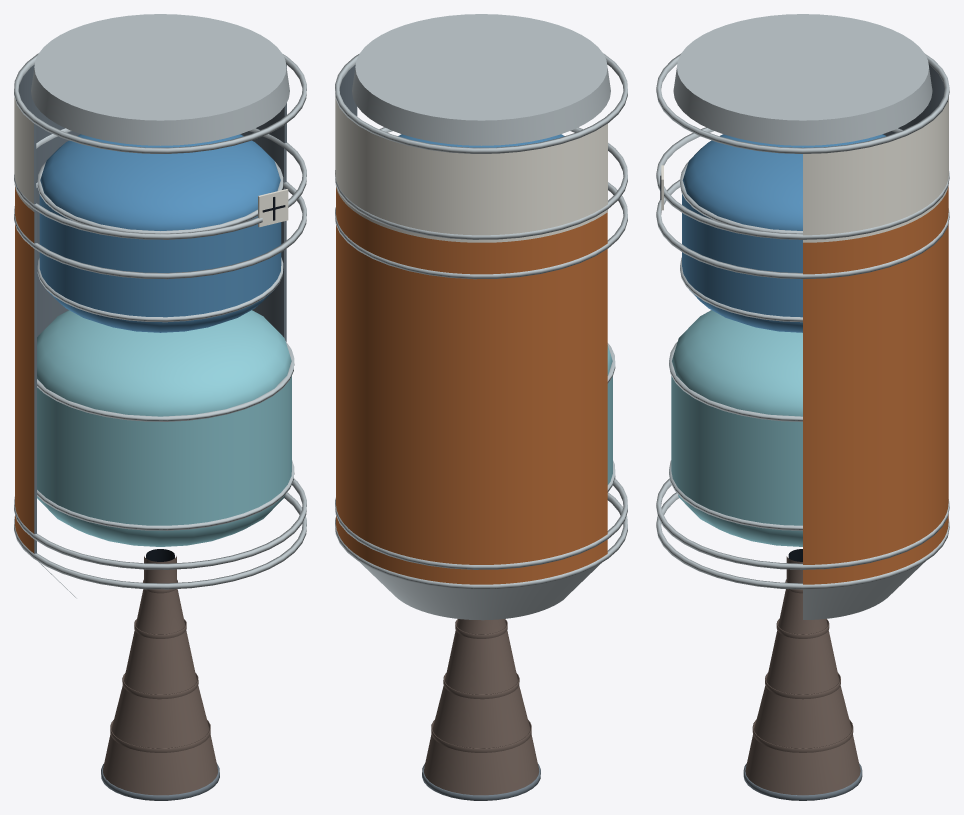
Rendered from icps_cutaway.glb.
3 renders of one model, left to right at view 1: azimuth 30°, elevation 25°; view 2: azimuth 150°, elevation 25°; view 3: azimuth 270°, elevation 25°, orthographic.
Visible parts, largest first — view 1: icps.cutaway.hydrogen.mesh_Cutaway_liquid_hydrogen, icps.mesh_Satin_aluminum, icps.cutaway.oxygen.mesh_Cutaway_liquid_oxygen, icps.rl10.bell.mesh_Heat-stained_alloy, icps.mesh_Spray-on_insulation, icps.mesh_Machined_steel, icps.cutaway.hydrogen.mesh_Satin_aluminum, icps.cutaway.oxygen.mesh_Satin_aluminum, icps.mesh_Warm_white_enamel, icps.proximity_target.mesh_Warm_white_enamel, icps.rl10.bell.mesh_Machined_steel; view 2: icps.mesh_Spray-on_insulation, icps.mesh_Satin_aluminum, icps.mesh_Warm_white_enamel, icps.rl10.bell.mesh_Heat-stained_alloy, icps.rl10.bell.mesh_Machined_steel, icps.cutaway.hydrogen.mesh_Cutaway_liquid_hydrogen; view 3: icps.mesh_Spray-on_insulation, icps.mesh_Satin_aluminum, icps.cutaway.hydrogen.mesh_Cutaway_liquid_hydrogen, icps.cutaway.oxygen.mesh_Cutaway_liquid_oxygen, icps.rl10.bell.mesh_Heat-stained_alloy, icps.mesh_Warm_white_enamel, icps.cutaway.hydrogen.mesh_Satin_aluminum, icps.cutaway.oxygen.mesh_Satin_aluminum, icps.rl10.bell.mesh_Machined_steel, icps.mesh_Machined_steel.
Part boxes in pixels (x1,y1,x2,y2): icps.cutaway.hydrogen.mesh_Cutaway_liquid_hydrogen: [37, 310, 291, 546]; icps.mesh_Satin_aluminum: [14, 14, 306, 598]; icps.cutaway.oxygen.mesh_Cutaway_liquid_oxygen: [39, 134, 281, 332]; icps.rl10.bell.mesh_Heat-stained_alloy: [103, 556, 217, 795]; icps.mesh_Spray-on_insulation: [15, 187, 34, 553]; icps.mesh_Machined_steel: [18, 65, 286, 553]; icps.cutaway.hydrogen.mesh_Satin_aluminum: [37, 341, 294, 530]; icps.cutaway.oxygen.mesh_Satin_aluminum: [37, 161, 283, 322]; icps.mesh_Warm_white_enamel: [14, 97, 33, 211]; icps.proximity_target.mesh_Warm_white_enamel: [258, 189, 288, 227]; icps.rl10.bell.mesh_Machined_steel: [101, 763, 219, 800]; icps.mesh_Spray-on_insulation: [336, 187, 607, 584]; icps.mesh_Satin_aluminum: [335, 14, 627, 620]; icps.mesh_Warm_white_enamel: [335, 96, 607, 242]; icps.rl10.bell.mesh_Heat-stained_alloy: [424, 619, 538, 795]; icps.rl10.bell.mesh_Machined_steel: [422, 763, 540, 800]; icps.cutaway.hydrogen.mesh_Cutaway_liquid_hydrogen: [607, 345, 612, 484]; icps.mesh_Spray-on_insulation: [803, 186, 948, 584]; icps.mesh_Satin_aluminum: [656, 14, 949, 619]; icps.cutaway.hydrogen.mesh_Cutaway_liquid_hydrogen: [671, 310, 802, 546]; icps.cutaway.oxygen.mesh_Cutaway_liquid_oxygen: [682, 134, 885, 332]; icps.rl10.bell.mesh_Heat-stained_alloy: [745, 556, 860, 795]; icps.mesh_Warm_white_enamel: [803, 97, 948, 242]; icps.cutaway.hydrogen.mesh_Satin_aluminum: [669, 342, 802, 530]; icps.cutaway.oxygen.mesh_Satin_aluminum: [680, 162, 802, 322]; icps.rl10.bell.mesh_Machined_steel: [743, 763, 862, 800]; icps.mesh_Machined_steel: [883, 64, 944, 136].
Bounding box in the file's own units: 5.14 × 13.7 × 5.14.
